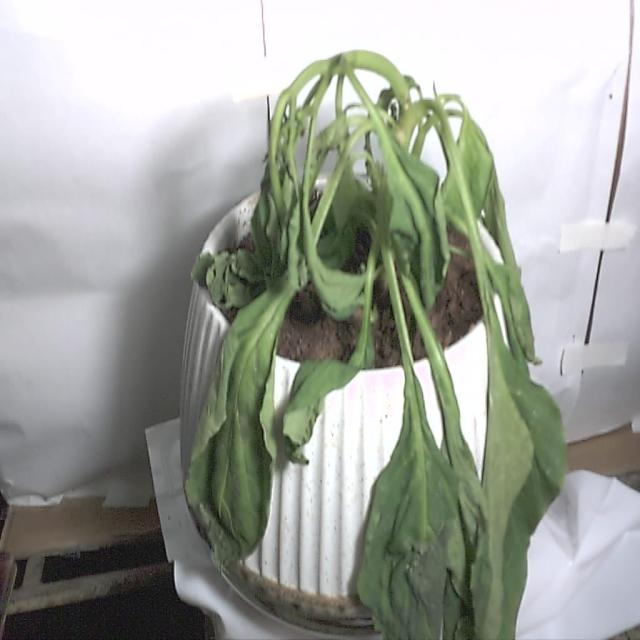Leaf: (466, 317, 565, 640), (186, 294, 281, 576), (350, 389, 452, 640)
